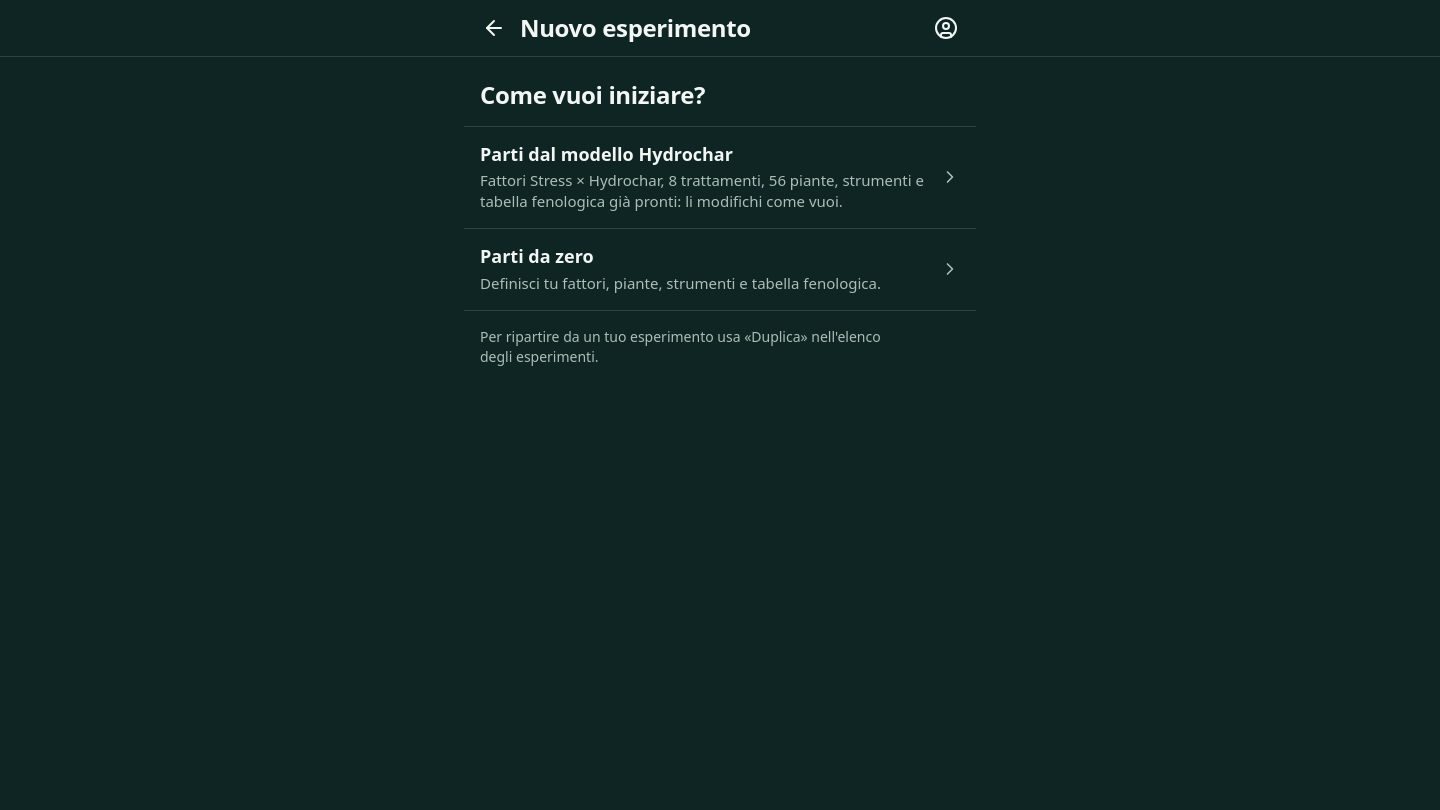
NuovoEsperimento: inizio › "Parti dal modello Hydrochar" compila la bozza con il modello
The image size is (1440, 810).
Click the button "Parti dal modello Hydrochar" at point(720, 178), box [464,127,976,229]
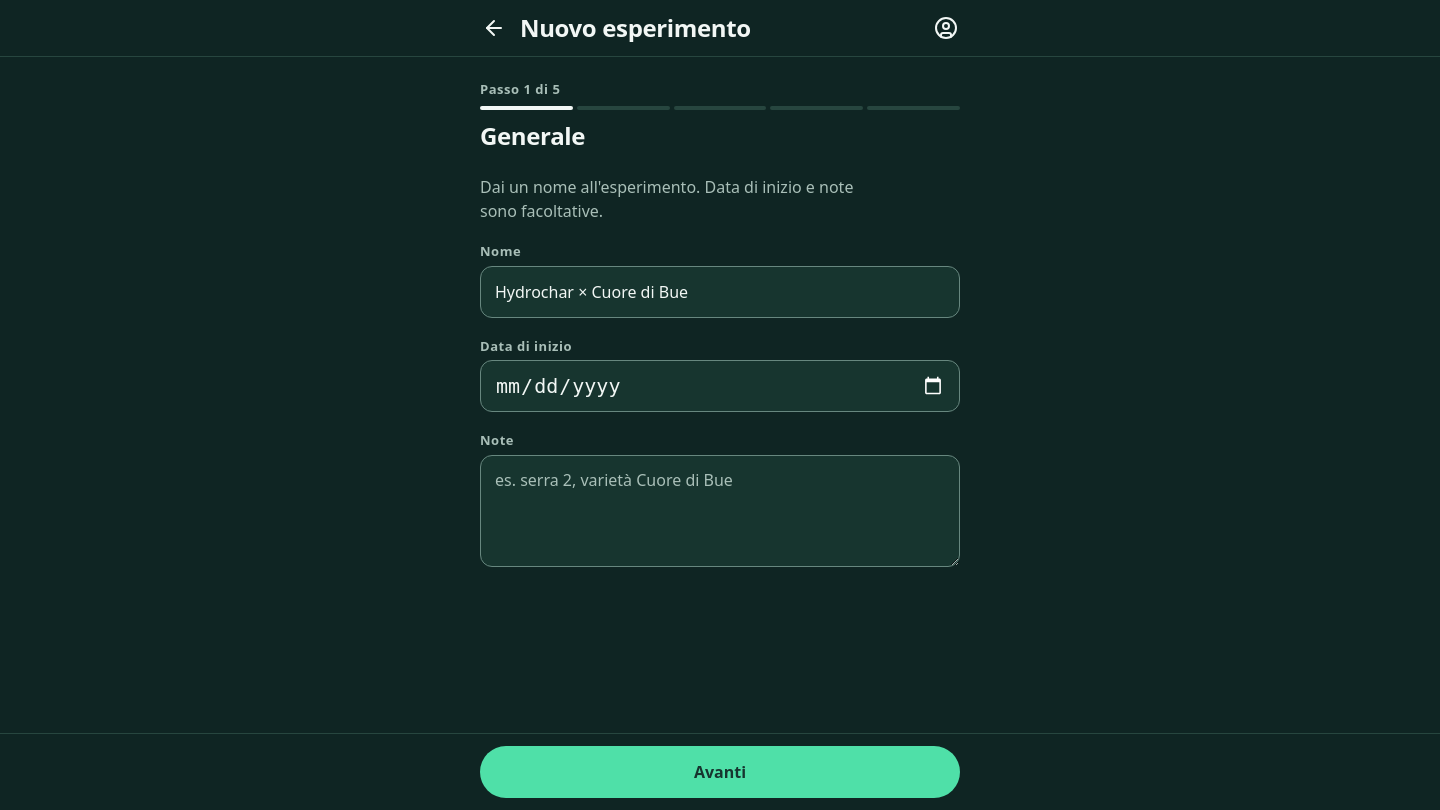
expect the field labelled "Nome" holds "Hydrochar × Cuore di Bue": met, box [480,266,960,318]
